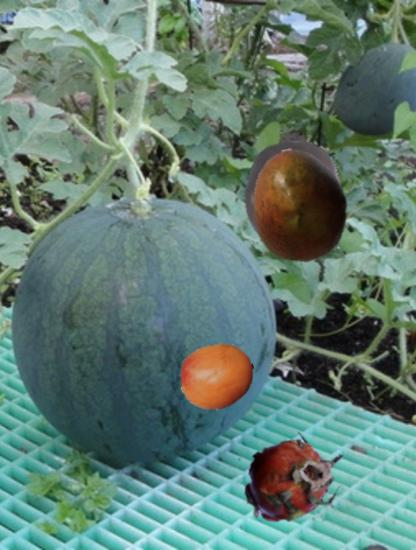Apricot: (179, 339, 255, 415)
Mango: (242, 148, 357, 263)
Passion: (238, 141, 349, 252)
Pitahaya: (238, 424, 349, 535)
